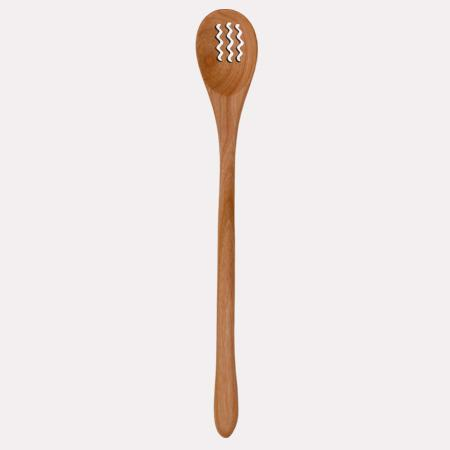Spoon: (195, 7, 258, 439)
